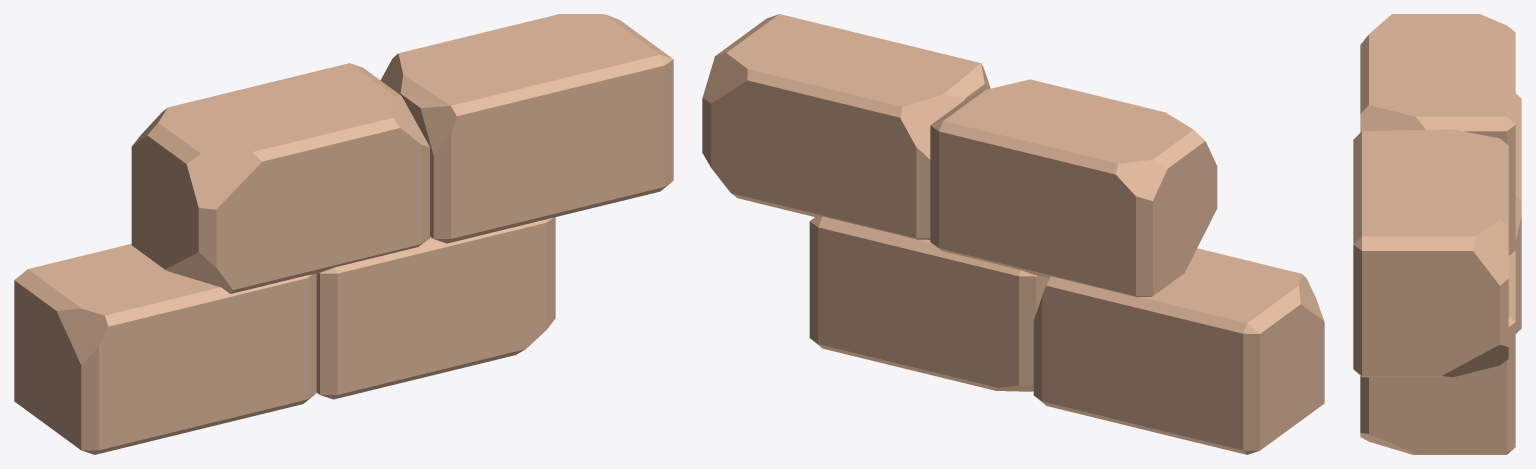
Rendered from 4brick.fbx.
3 views of the same model, side by side, from view 1: azimuth 30°, elevation 25°; view 2: azimuth 150°, elevation 25°; view 3: azimuth 270°, elevation 25° (orthographic). The views are drawn at different scales.
Parts seen in each view (by area): view 1: 4brick; view 2: 4brick; view 3: 4brick.
Boxes of the visible parts, box(x1,y1,x2,y2) form: 4brick: box(14, 14, 673, 454); 4brick: box(702, 14, 1324, 454); 4brick: box(1353, 14, 1521, 454).
Size of the model in its own units: 2.82 by 1.24 by 0.6822.
